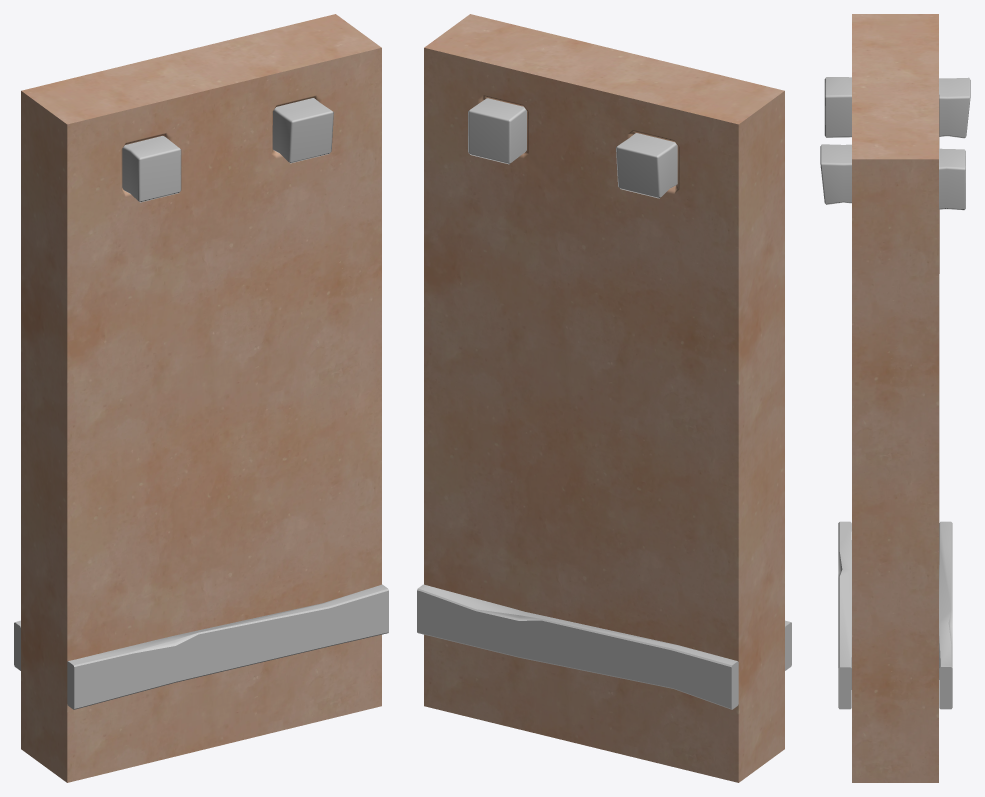
3 views of the same model, side by side, from view 1: azimuth 30°, elevation 25°; view 2: azimuth 150°, elevation 25°; view 3: azimuth 270°, elevation 25° (orthographic). The views are drawn at different scales.
Visible parts, largest first — view 1: SM_BB_T4_Wall_Large_Narrow_LOD0; view 2: SM_BB_T4_Wall_Large_Narrow_LOD0; view 3: SM_BB_T4_Wall_Large_Narrow_LOD0.
Part boxes in pixels (box(x1,y1,x2,y2)): SM_BB_T4_Wall_Large_Narrow_LOD0: box(14, 14, 388, 782); SM_BB_T4_Wall_Large_Narrow_LOD0: box(417, 14, 791, 782); SM_BB_T4_Wall_Large_Narrow_LOD0: box(820, 14, 970, 782).
Size of the model in its own units: 1.5 by 3 by 0.6542.
